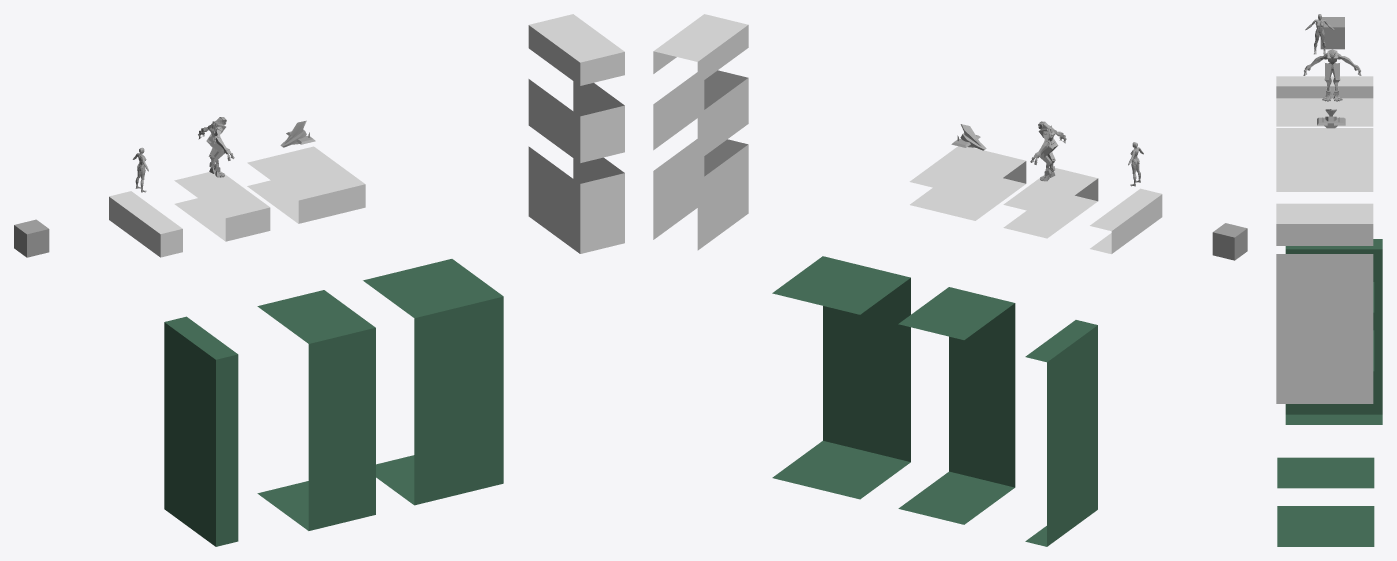
Rendered from Level Design tools.fbx.
3 renders of one model, left to right at view 1: azimuth 30°, elevation 25°; view 2: azimuth 150°, elevation 25°; view 3: azimuth 270°, elevation 25°, orthographic. The views are drawn at different scales.
Parts seen in each view (by area): view 1: polySurface941, polySurface940, polySurface939, polySurface946, polySurface944, polySurface947, polySurface945, polySurface943, polySurface942, polySurface952, polySurface950; view 2: polySurface941, polySurface940, polySurface939, polySurface946, polySurface944, polySurface947, polySurface943, polySurface945, polySurface942, polySurface952, polySurface950; view 3: polySurface946, polySurface947, polySurface944, polySurface939, polySurface945, polySurface941, polySurface940, polySurface943, polySurface942, polySurface950, polySurface952, polySurface948 (+1 smaller).
Part boxes in pixels (x1,y1,x2,y2): polySurface941: (363, 259, 503, 505); polySurface940: (257, 290, 375, 530); polySurface939: (164, 316, 238, 546); polySurface946: (528, 146, 624, 253); polySurface944: (247, 146, 365, 223); polySurface947: (528, 79, 624, 163); polySurface945: (528, 14, 624, 85); polySurface943: (174, 171, 270, 241); polySurface942: (109, 191, 182, 257); polySurface952: (14, 219, 49, 257); polySurface950: (198, 117, 234, 177); polySurface941: (772, 256, 910, 499); polySurface940: (898, 287, 1015, 524); polySurface939: (1025, 320, 1097, 546); polySurface946: (653, 139, 748, 250); polySurface944: (909, 146, 1026, 220); polySurface947: (653, 70, 748, 160); polySurface943: (1003, 168, 1098, 238); polySurface945: (653, 14, 748, 84); polySurface942: (1090, 188, 1162, 254); polySurface952: (1212, 223, 1247, 260); polySurface950: (1030, 121, 1066, 181); polySurface946: (1276, 318, 1373, 403); polySurface947: (1276, 254, 1373, 318); polySurface944: (1276, 139, 1373, 191); polySurface939: (1285, 239, 1382, 424); polySurface945: (1276, 203, 1373, 245); polySurface941: (1277, 330, 1374, 546); polySurface940: (1277, 282, 1374, 488); polySurface943: (1276, 106, 1373, 139); polySurface942: (1276, 76, 1373, 105); polySurface950: (1303, 49, 1361, 101); polySurface952: (1320, 17, 1344, 49); polySurface948: (1305, 14, 1334, 54).
Size of the model in its own units: 25.69 by 17.37 by 4.39.
